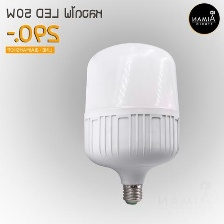light_bulb: (80, 40, 183, 208)
